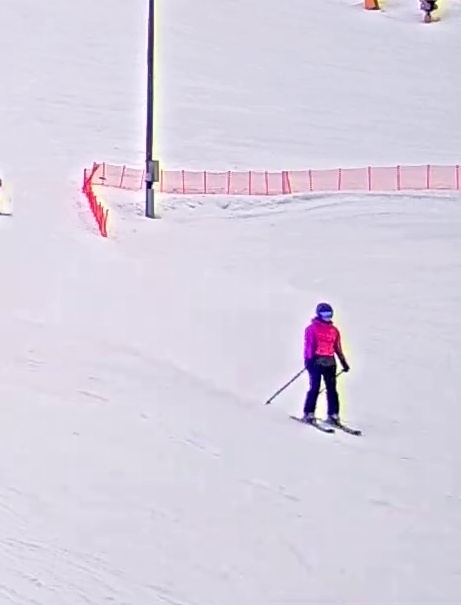skier: (265, 294, 364, 436)
